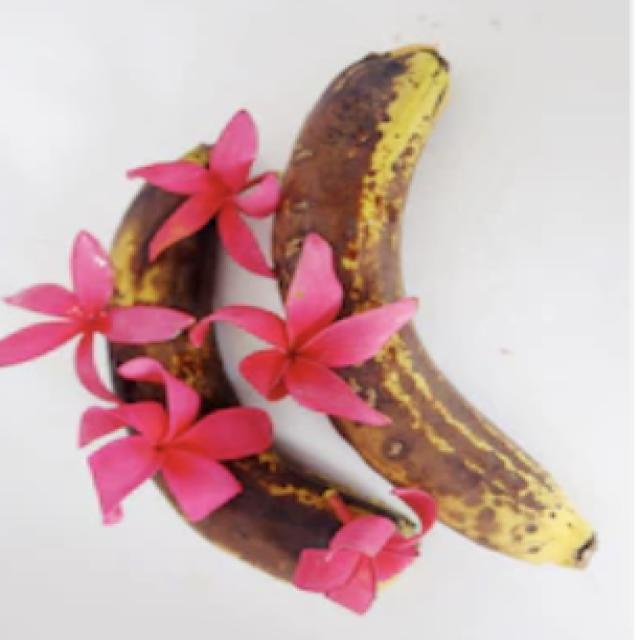rotten banana: (25, 30, 638, 633)
